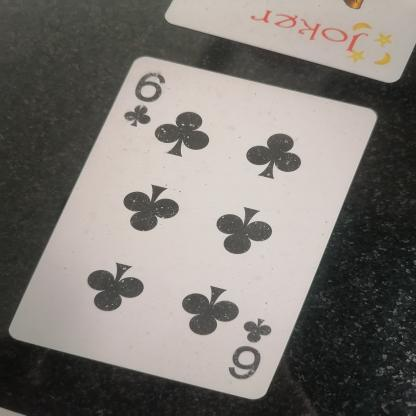6C: (222, 306, 294, 396), (118, 64, 173, 130)
